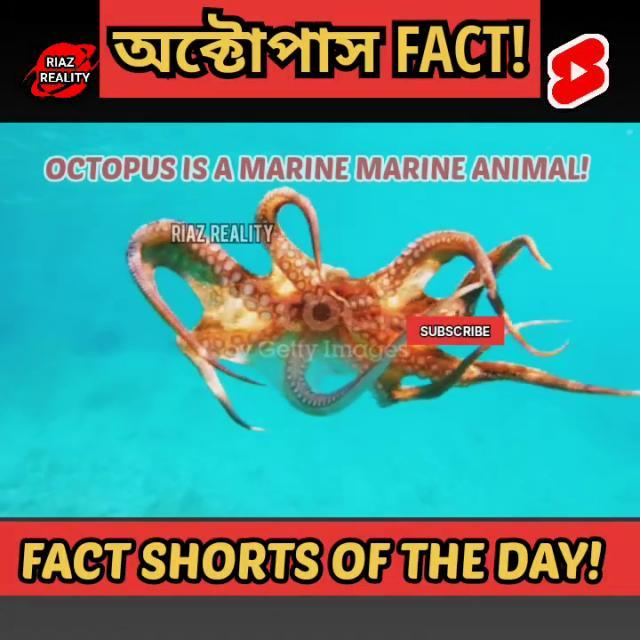octopus: (126, 185, 640, 429)
